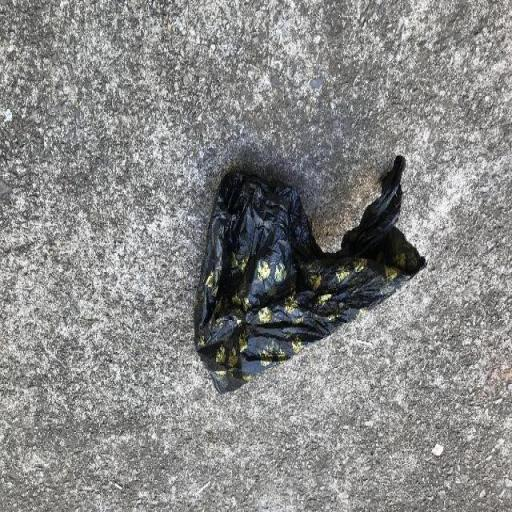plastic-bag: (190, 153, 428, 399)
